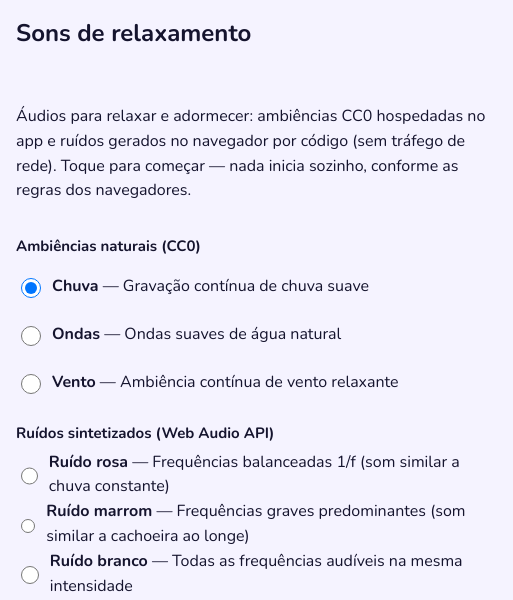
Test: tela de Sons › sem suporte a Web Audio avisa nos ruídos mas permite tocar ambiências CC0
Se clicar em um ruído, exibe alerta e desativa o botão de tocar ruído
Click the radio button labelled "Ruído rosa".
click(29, 476)  # box [21,466,38,486]
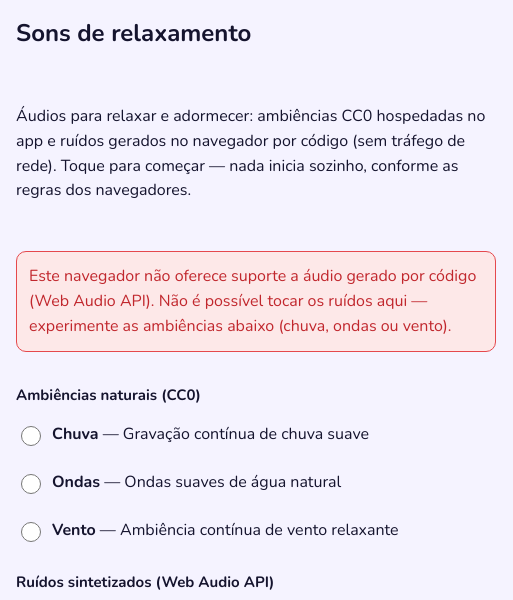
Check: the message shows "não oferece suporte a áudio gerado por código", box [29,265,476,337]
Voltando para ambiência, o botão volta a ficar habilitado
Click the radio button labelled "Vento — Ambiência contínua de vento relaxante".
click(31, 532)  # box [21,522,41,542]
(page scrolled)
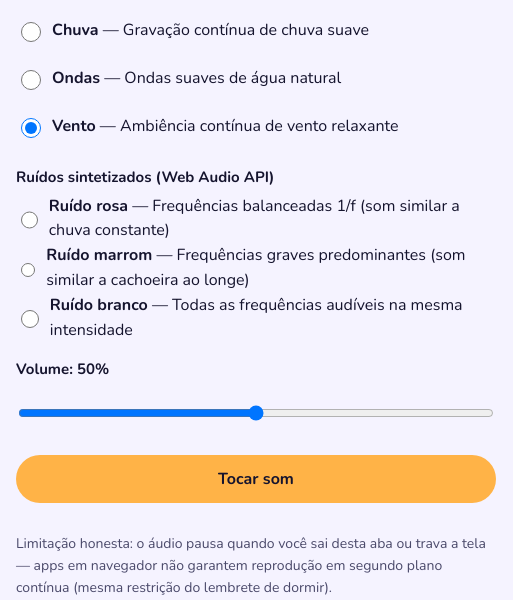
Check: the button "Tocar som" is enabled, box [16,455,496,503]
